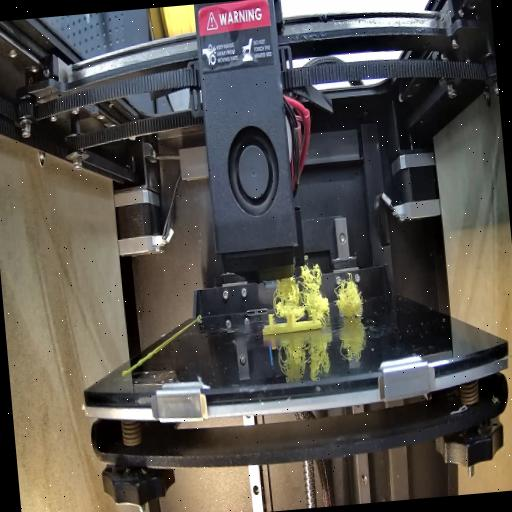spaghetti: (271, 261, 329, 318), (335, 271, 366, 325)
